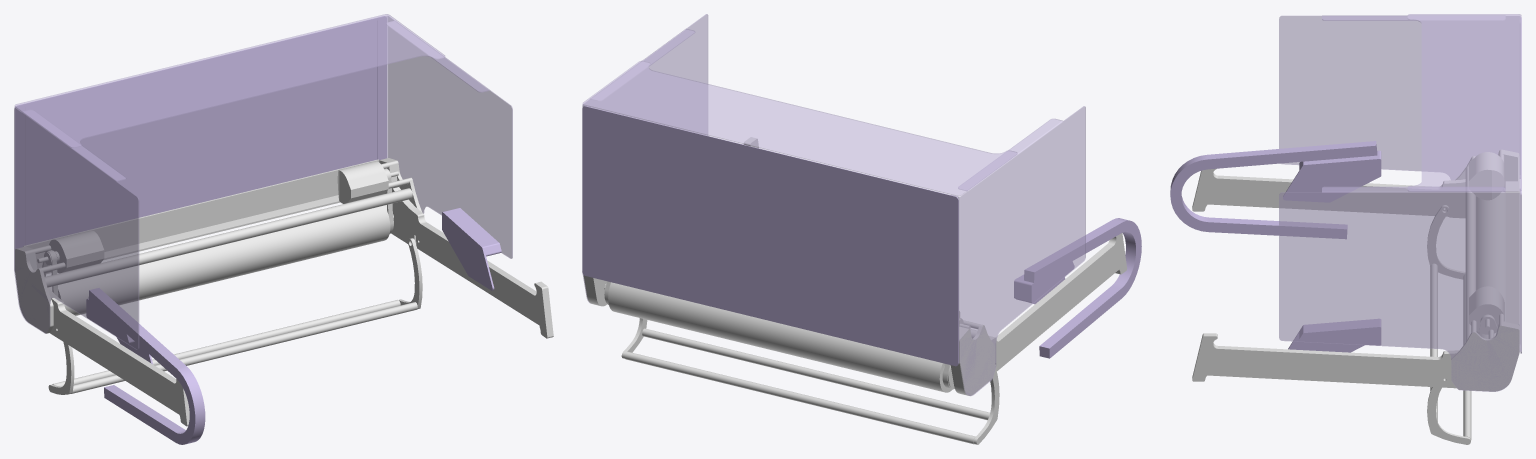
3 renders of one model, left to right at view 1: azimuth 30°, elevation 25°; view 2: azimuth 150°, elevation 25°; view 3: azimuth 270°, elevation 25°, orthographic. The views are drawn at different scales.
Parts seen in each view (by area): view 1: Part 19, Part 14, Part 18, Part 23, id141, id136, id126, Part 21, id96, id176, id56, id101 (+9 smaller); view 2: Part 19, Part 14, Part 23, id141, Part 18, id126, Part 21, id61, id56, id101, Part 20, id66 (+1 smaller); view 3: Part 18, Part 14, Part 23, id176, Part 21, id126, id121, Part 15, id141, id151, id136, Part 22 (+9 smaller).
Part boxes in pixels (x1,y1,x2,y2): Part 19: [14, 16, 386, 270]; Part 14: [14, 105, 139, 349]; Part 18: [377, 16, 512, 258]; Part 23: [14, 14, 445, 147]; id141: [58, 205, 390, 315]; id136: [23, 159, 379, 273]; id126: [20, 247, 189, 426]; Part 21: [88, 288, 205, 444]; id96: [45, 188, 412, 287]; id176: [379, 158, 553, 338]; id56: [71, 302, 417, 393]; id101: [15, 248, 53, 333]; Part 19: [582, 106, 958, 366]; Part 14: [951, 106, 1085, 396]; Part 23: [582, 60, 1017, 196]; id141: [608, 282, 952, 392]; Part 18: [582, 14, 708, 302]; id126: [950, 233, 1127, 394]; Part 21: [1024, 218, 1141, 358]; id61: [625, 351, 975, 444]; id56: [642, 328, 989, 420]; id101: [957, 324, 995, 395]; Part 20: [1016, 261, 1074, 303]; id66: [973, 372, 999, 444]; Part 18: [1279, 186, 1520, 391]; Part 14: [1279, 15, 1520, 179]; Part 23: [1407, 14, 1521, 191]; id176: [1192, 321, 1519, 388]; Part 21: [1170, 141, 1377, 238]; id126: [1192, 151, 1519, 217]; id121: [1451, 324, 1519, 391]; Part 15: [1283, 158, 1381, 202]; id141: [1476, 191, 1505, 338]; id151: [1207, 192, 1449, 216]; id136: [1505, 156, 1519, 324]; Part 22: [1299, 319, 1381, 345].
Bounding box in the file's own units: 0.7461 × 0.5125 × 0.6255.
